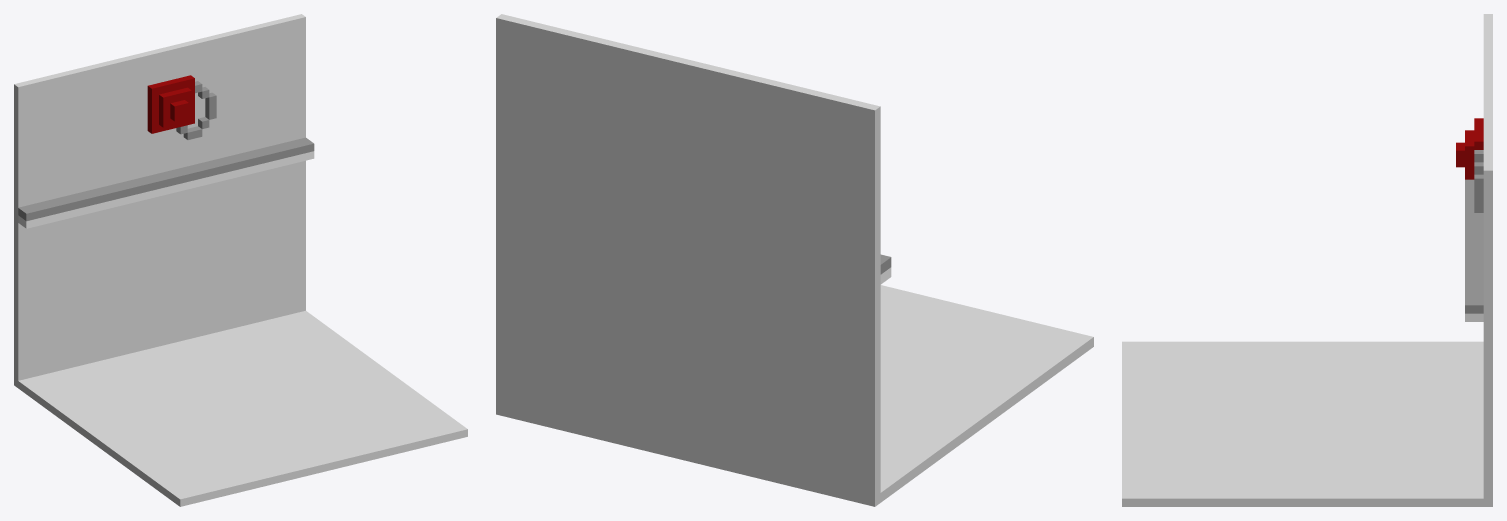
Rendered from Wall(Alarm).obj.
3 renders of one model, left to right at view 1: azimuth 30°, elevation 25°; view 2: azimuth 150°, elevation 25°; view 3: azimuth 270°, elevation 25°, orthographic. The views are drawn at different scales.
Bounding box in the file's own units: 4 × 4 × 4.
1 material, 1 textured.
